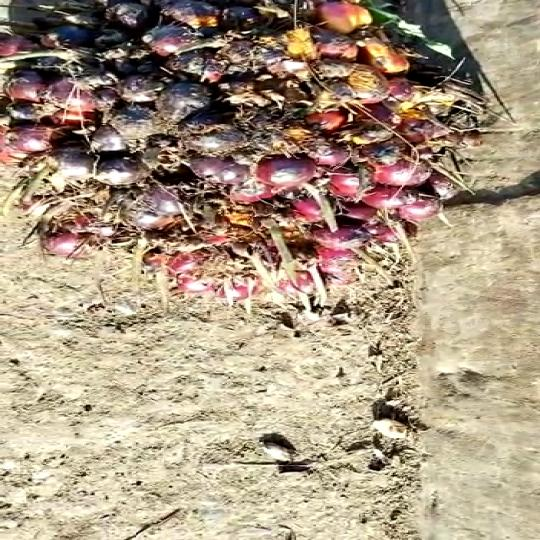masak: (0, 0, 491, 310)
